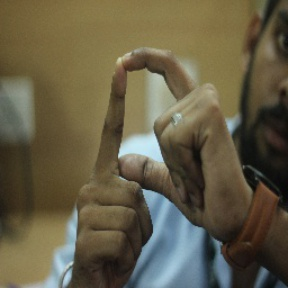D: (85, 44, 219, 199)
